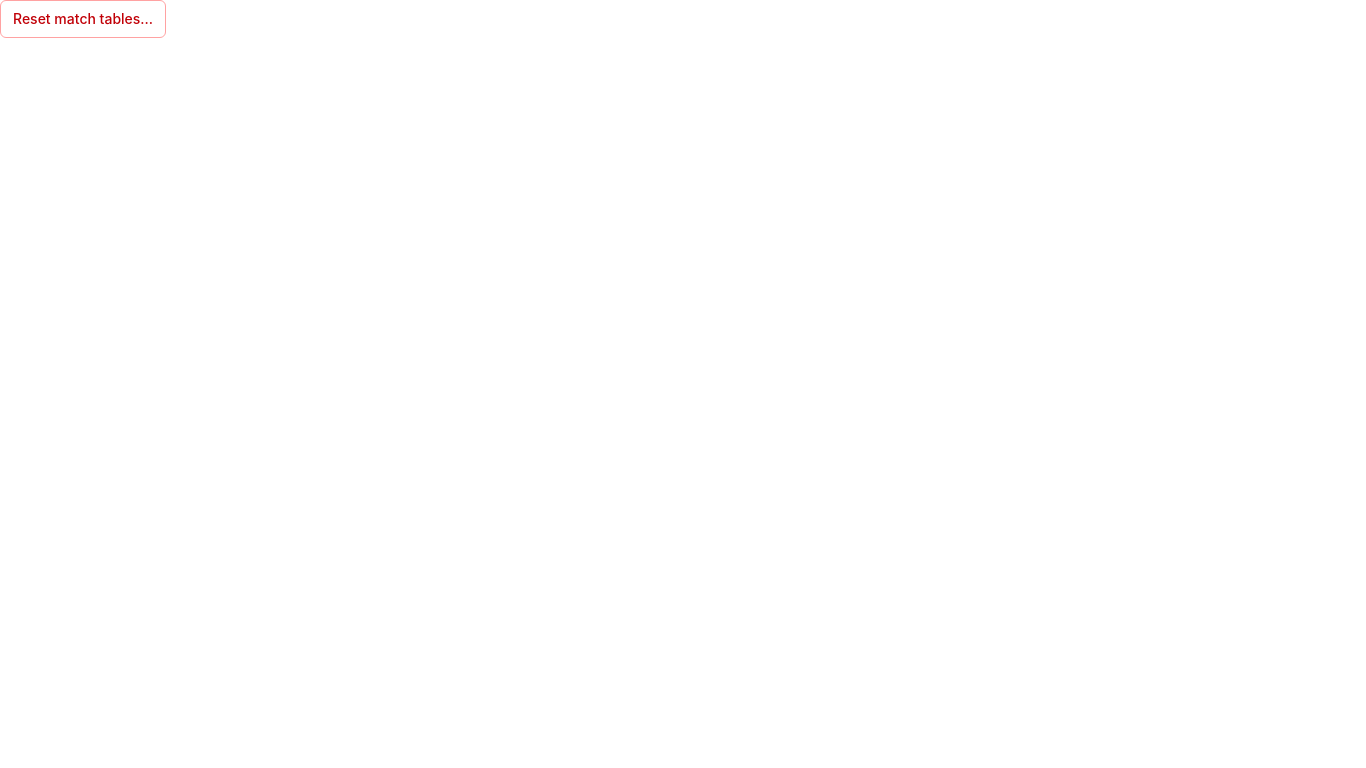
ResetMatchTables › cancel closes the dialog without posting
Click the button "Reset match tables…". click: (83, 19)
box: x1=0 y1=0 x2=166 y2=38
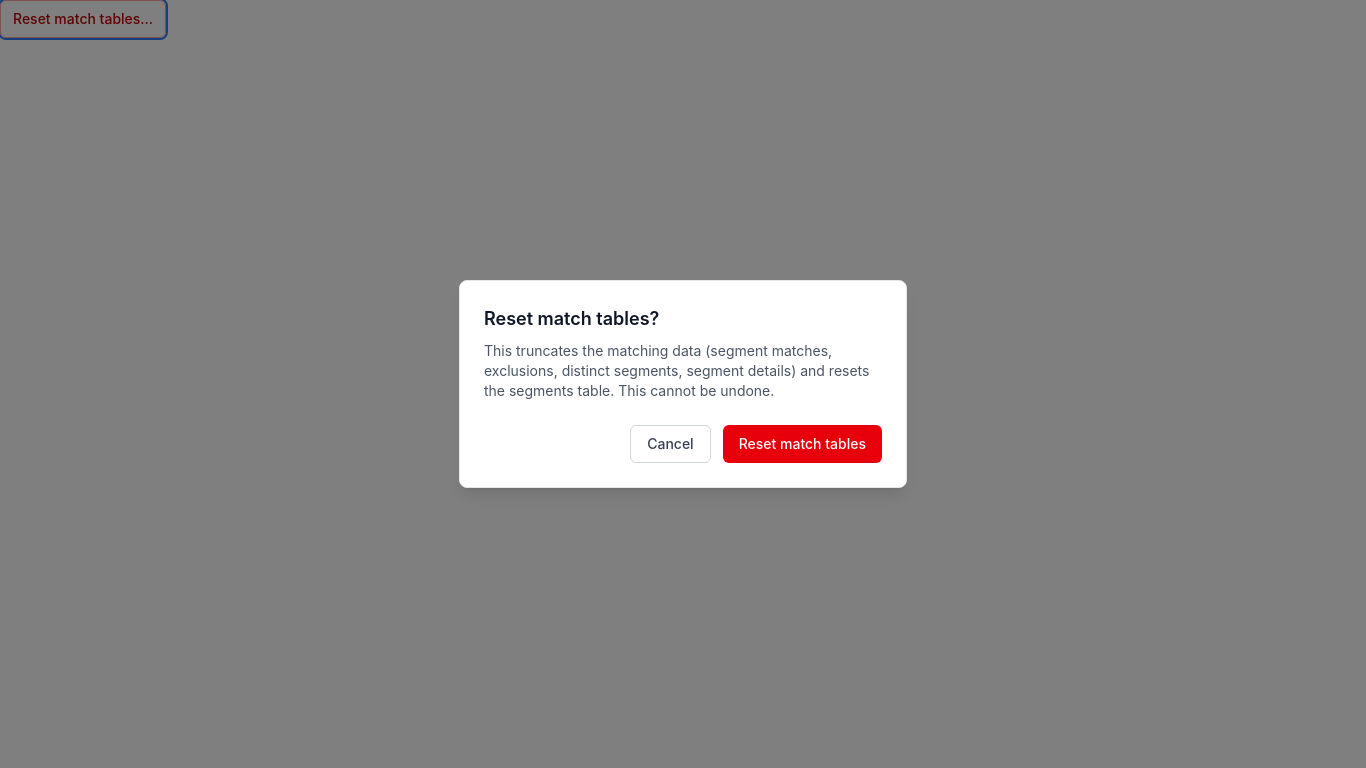
expect the dialog is shown: met
Click the button "Cancel". click: (670, 444)
box: x1=630 y1=425 x2=711 y2=463
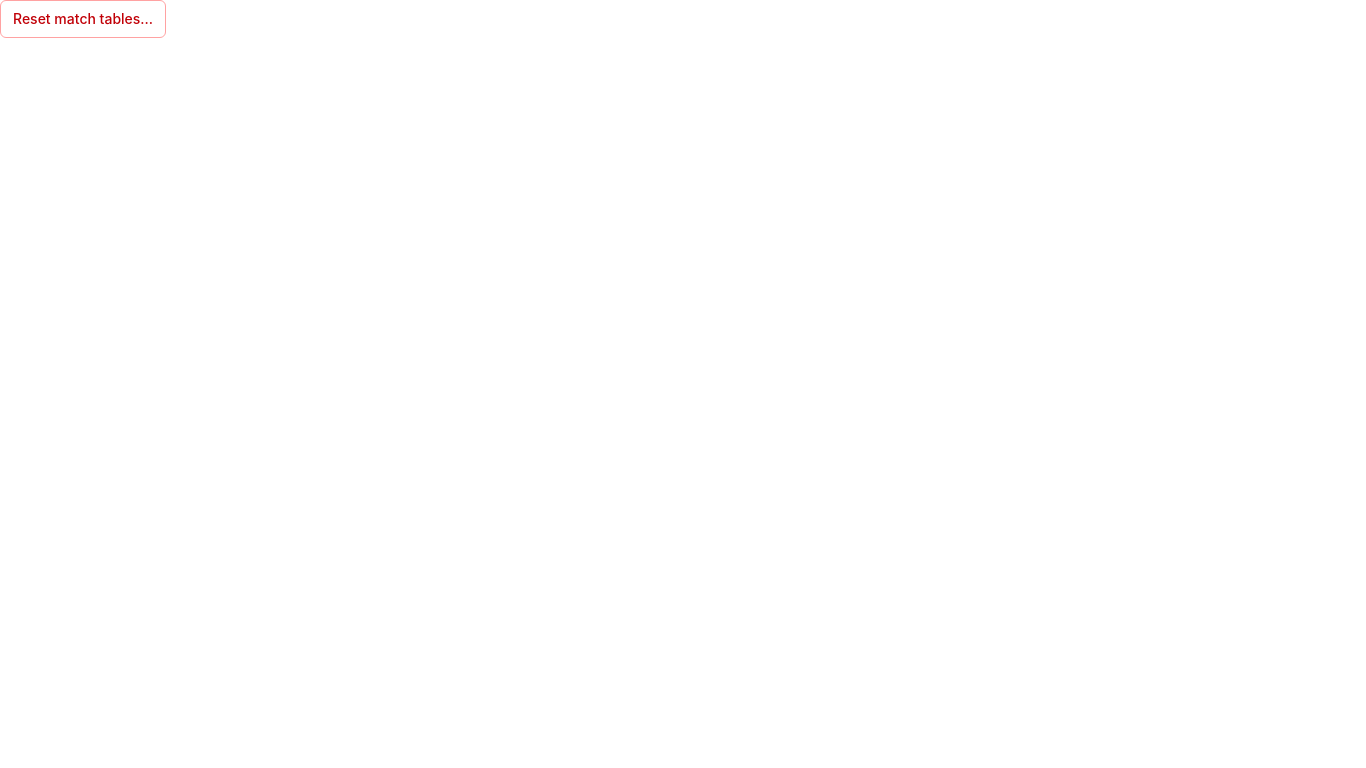
expect the dialog is gone: met
